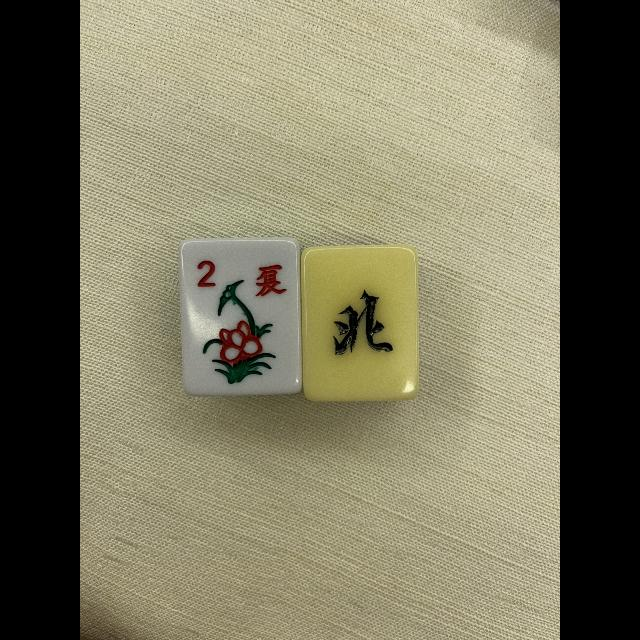s2: (182, 241, 298, 303)
wn: (304, 248, 416, 399)
